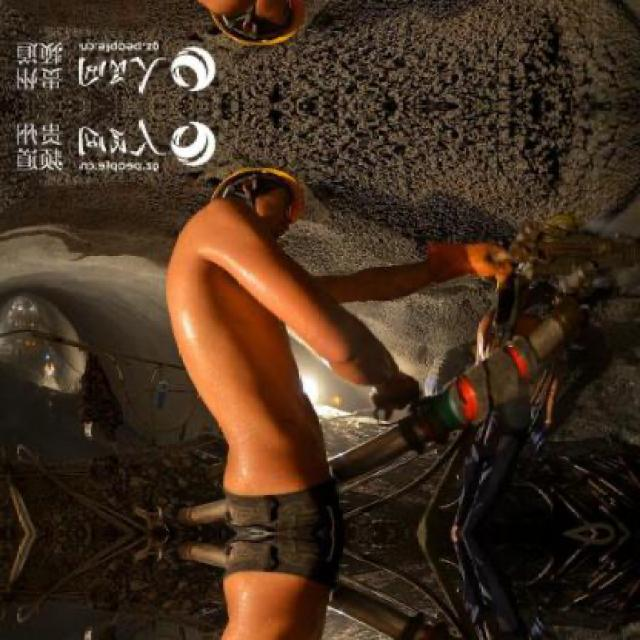con casco: (206, 132, 314, 236)
